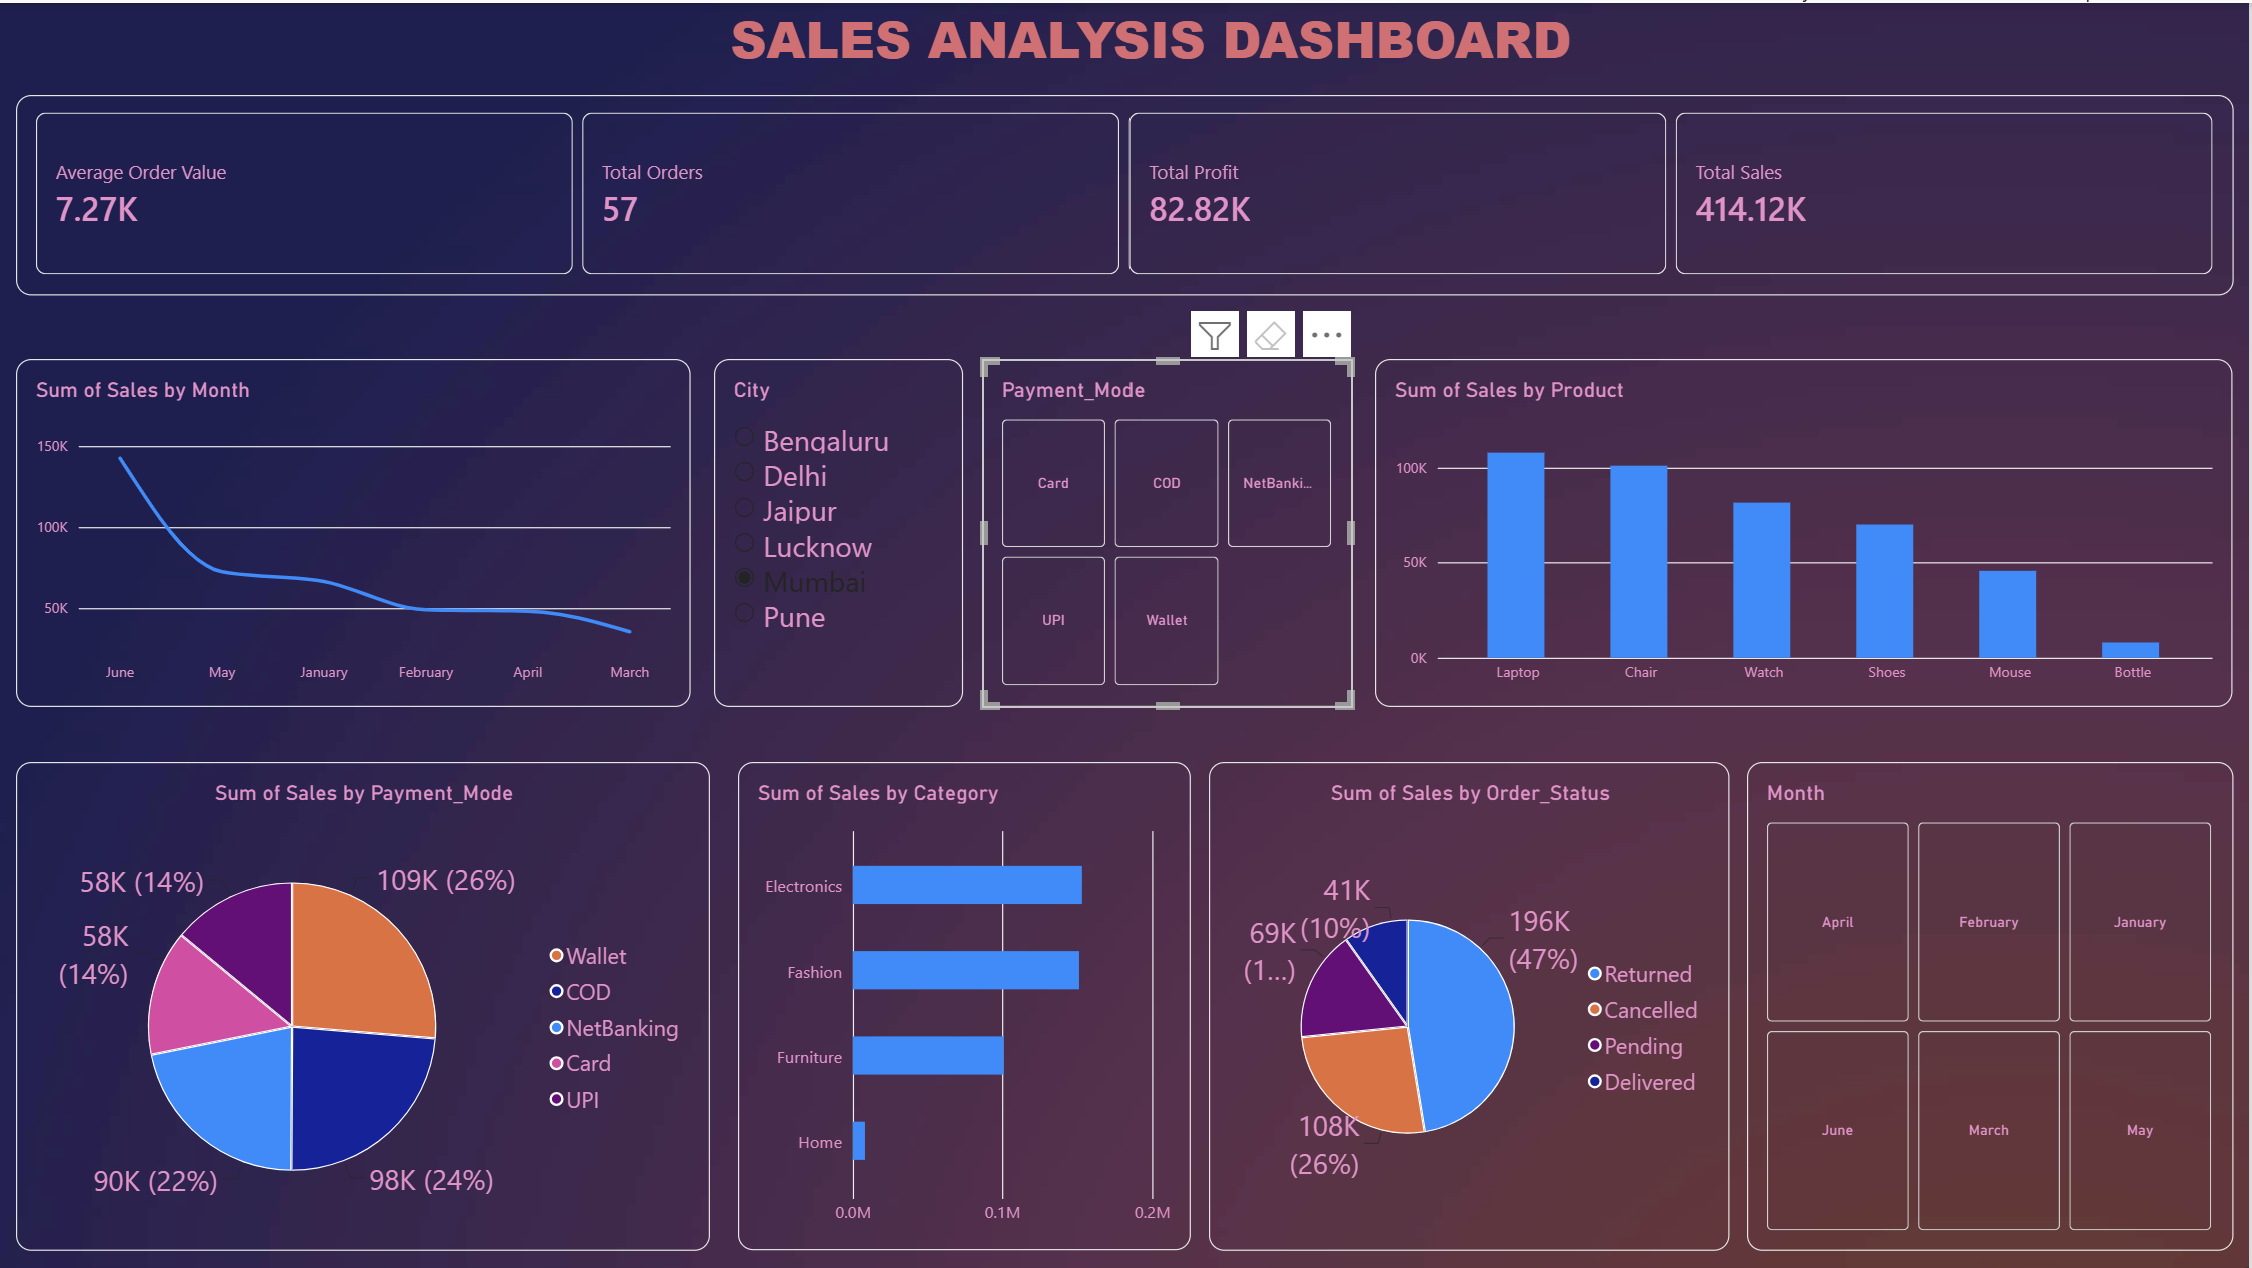

This screenshot's page, from the dashboard's own definition file:
{"tool":"powerbi","page":{"name":"Page 1","canvas":[1920,1080],"ordinal":0},"visuals":[{"type":"cardVisual","fields":{"Data":["DAX_MEASURE.Average Order Value","DAX_MEASURE.Total Orders","DAX_MEASURE.Total Profit","DAX_MEASURE.Total Sales"]},"box":[14.6,79.2,1890.8,170.9],"z":0},{"type":"textbox","box":[45.9,0,1874.1,79.2],"z":1},{"type":"lineChart","fields":{"Category":["ecommerce clean_ecommerce.Month"],"Y":["Sum(ecommerce clean_ecommerce.Sales)"]},"box":[14.6,304.4,575.4,296],"z":2},{"type":"barChart","fields":{"Category":["ecommerce clean_ecommerce.Category"],"Y":["Sum(ecommerce clean_ecommerce.Sales)"]},"box":[631.3,646.6,385.6,416.3],"z":3},{"type":"clusteredColumnChart","fields":{"Category":["ecommerce clean_ecommerce.Product"],"Y":["Sum(ecommerce clean_ecommerce.Sales)"]},"box":[1173.7,304.4,731.7,296],"z":4},{"type":"pieChart","fields":{"Category":["ecommerce clean_ecommerce.Payment_Mode"],"Y":["Sum(ecommerce clean_ecommerce.Sales)"]},"box":[14.6,646.3,592.1,416.9],"z":5},{"type":"pieChart","fields":{"Category":["ecommerce clean_ecommerce.Order_Status"],"Y":["Sum(ecommerce clean_ecommerce.Sales)"]},"box":[1031.9,646.3,444,416.9],"z":6},{"type":"advancedSlicerVisual","fields":{"Values":["ecommerce clean_ecommerce.Month"]},"box":[1490.6,646.3,414.9,416.9],"z":7},{"type":"listSlicer","fields":{"Values":["ecommerce clean_ecommerce.City"]},"box":[610.8,304.4,212.6,296],"z":8},{"type":"advancedSlicerVisual","fields":{"Values":["ecommerce clean_ecommerce.Payment_Mode"]},"box":[840.1,304.4,314.8,296],"z":9}]}

Visuals, with their boxes in screenshot pixels (x1, y1, x2, y2), scaled from the page's 1920x1080 canvas onto the 2252x1268 screenshot:
cardVisual - DAX_MEASURE.Average Order Value x DAX_MEASURE.Total Orders: region(17, 93, 2235, 294)
textbox: region(54, 0, 2251, 93)
lineChart - ecommerce clean_ecommerce.Month x Sum(ecommerce clean_ecommerce.Sales): region(17, 357, 692, 705)
barChart - ecommerce clean_ecommerce.Category x Sum(ecommerce clean_ecommerce.Sales): region(740, 759, 1193, 1248)
clusteredColumnChart - ecommerce clean_ecommerce.Product x Sum(ecommerce clean_ecommerce.Sales): region(1377, 357, 2235, 705)
pieChart - ecommerce clean_ecommerce.Payment_Mode x Sum(ecommerce clean_ecommerce.Sales): region(17, 759, 712, 1248)
pieChart - ecommerce clean_ecommerce.Order_Status x Sum(ecommerce clean_ecommerce.Sales): region(1210, 759, 1731, 1248)
advancedSlicerVisual - ecommerce clean_ecommerce.Month: region(1748, 759, 2235, 1248)
listSlicer - ecommerce clean_ecommerce.City: region(716, 357, 966, 705)
advancedSlicerVisual - ecommerce clean_ecommerce.Payment_Mode: region(985, 357, 1355, 705)
